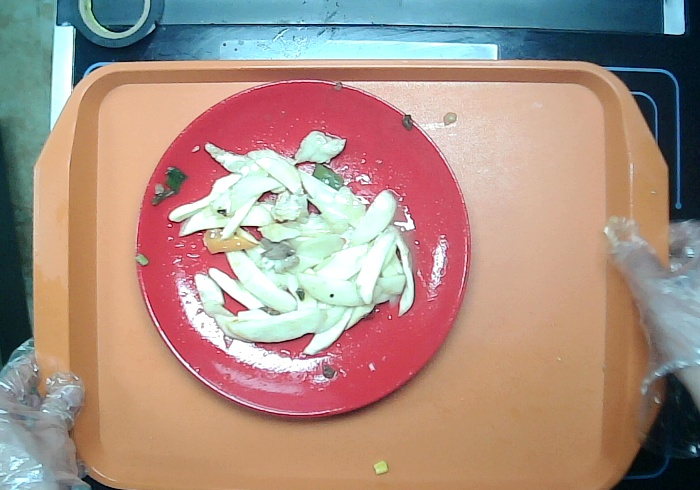HZYJPL-Hong_Se_Yuan_Pan: (117, 68, 487, 435)
